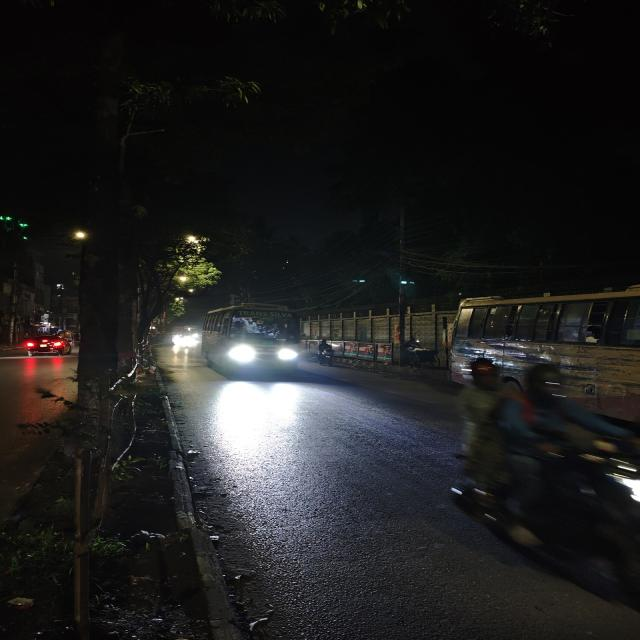bus: (455, 297, 640, 389), (199, 304, 303, 382)
car: (18, 332, 72, 358)
motorcycle: (311, 339, 340, 368)
